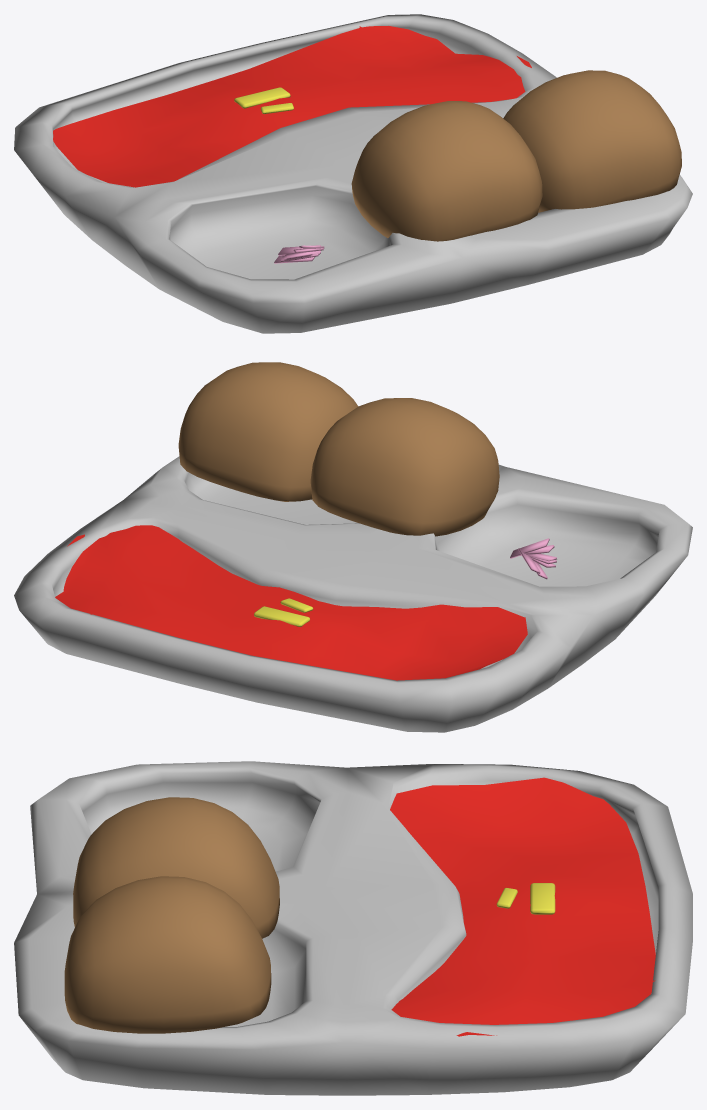
File: pavbhaji.fbx
The picture shows the model from 3 angles, top to bottom: view 1: azimuth 30°, elevation 25°; view 2: azimuth 150°, elevation 25°; view 3: azimuth 270°, elevation 25°; orthographic projection. The views are drawn at different scales.
Visible parts, largest first — view 1: steel plate, bhaji gravy, Pav.007, Pav.006, butter pav bhaji; view 2: steel plate, bhaji gravy, Pav.007, Pav.006, butter pav bhaji; view 3: steel plate, bhaji gravy, Pav.006, Pav.007, butter pav bhaji.
Boxes of the visible parts, box(x1,y1,x2,y2) form: steel plate: box(14, 14, 692, 333); bhaji gravy: box(53, 26, 531, 187); Pav.007: box(351, 101, 542, 241); Pav.006: box(503, 70, 681, 212); butter pav bhaji: box(234, 87, 290, 108); steel plate: box(14, 456, 692, 732); bhaji gravy: box(55, 525, 527, 680); Pav.007: box(310, 398, 499, 536); Pav.006: box(178, 362, 358, 501); butter pav bhaji: box(254, 606, 309, 626); steel plate: box(14, 761, 692, 1095); bhaji gravy: box(390, 777, 655, 1036); Pav.006: box(64, 876, 271, 1033); Pav.007: box(73, 797, 279, 938); butter pav bhaji: box(530, 883, 555, 914).
Size of the model in its own units: 360 by 105 by 360.
